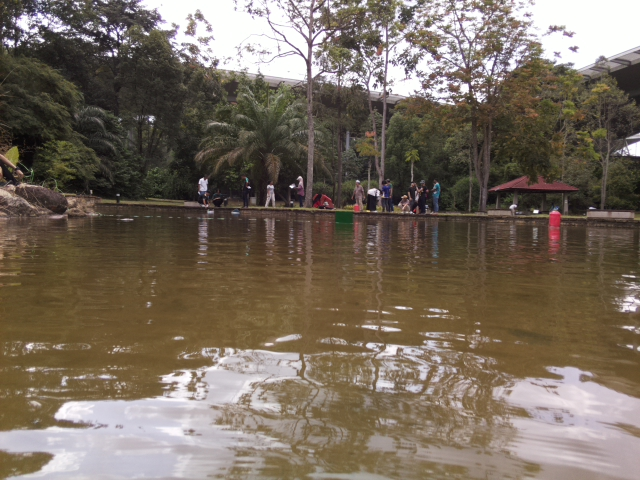obstacle: (334, 211, 354, 223)
